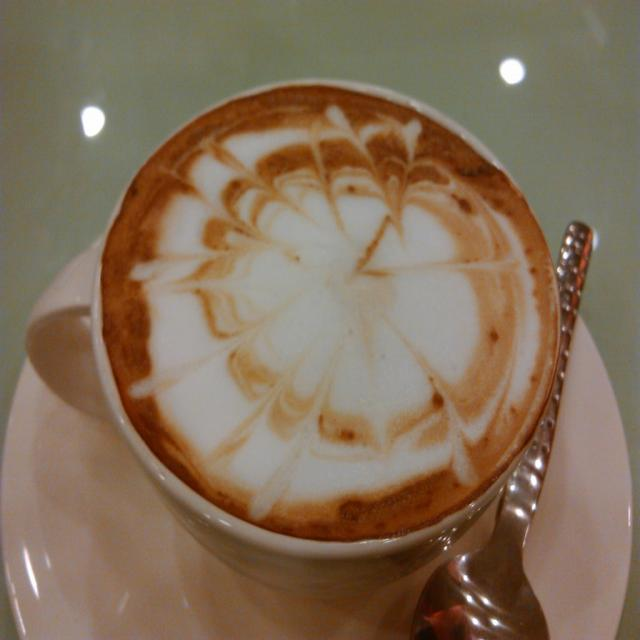Coffee: (101, 82, 559, 540)
